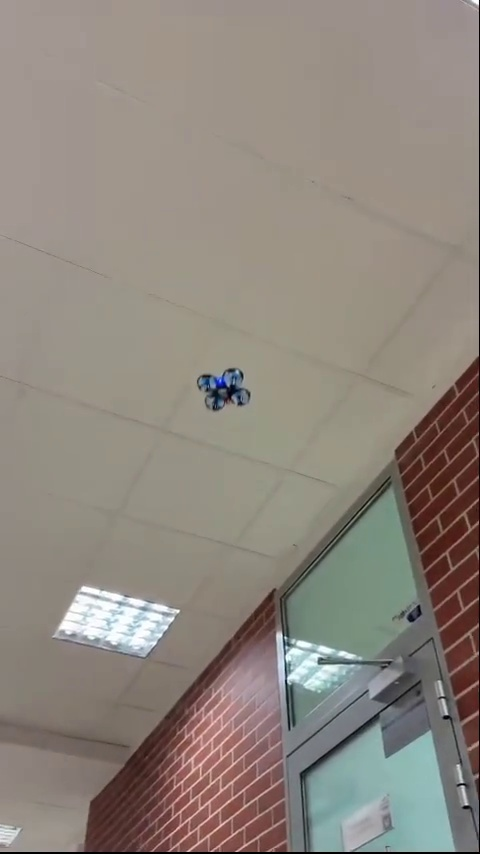drone: (194, 370, 248, 414)
